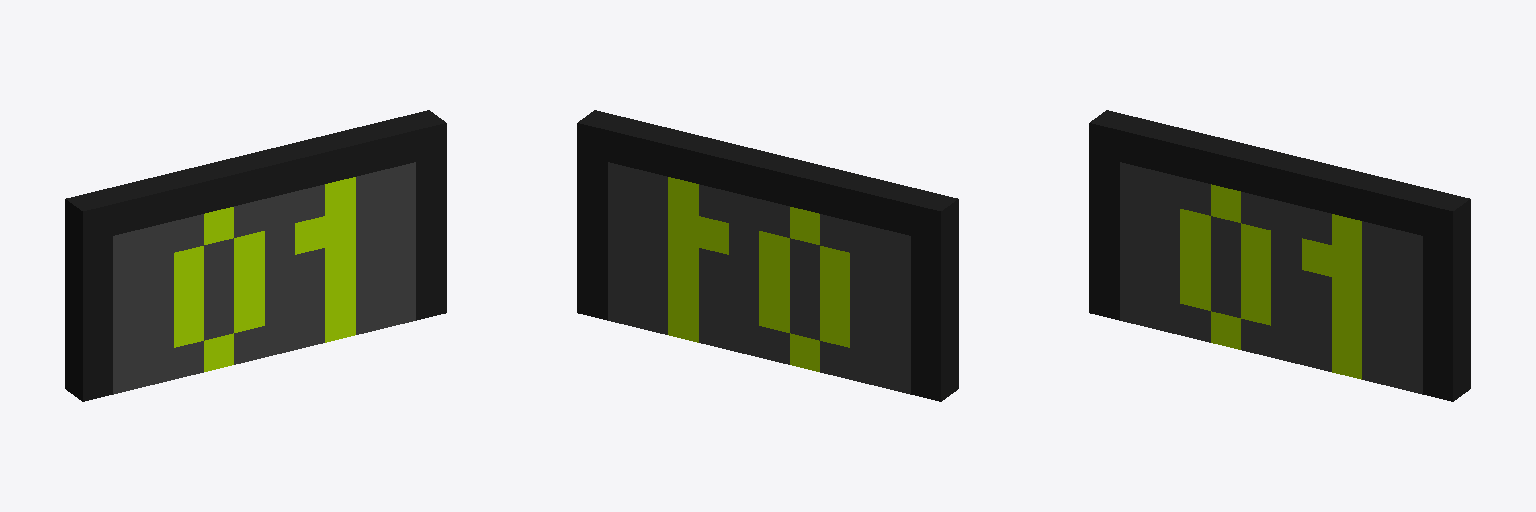
The picture shows the model from 3 angles: view 1: azimuth 30°, elevation 25°; view 2: azimuth 150°, elevation 25°; view 3: azimuth 330°, elevation 25°; orthographic projection.
Parts seen in each view (by area): view 1: object 1; view 2: object 1; view 3: object 1.
Boxes of the visible parts, <box> form: object 1: <box>65,110,446,401</box>; object 1: <box>577,110,958,401</box>; object 1: <box>1089,110,1470,401</box>.
Size of the model in its own units: 1.2 by 0.6 by 0.1.
1 materials, 1 textured.